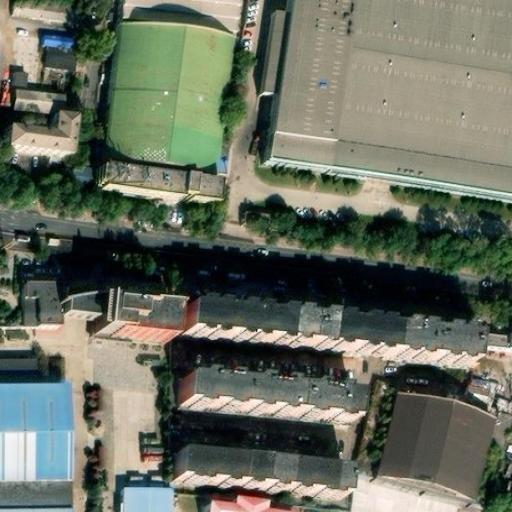building: (262, 0, 512, 199), (96, 22, 229, 193), (179, 308, 466, 376), (367, 395, 491, 508), (172, 371, 351, 429), (168, 444, 343, 500), (92, 178, 219, 224), (116, 0, 234, 37), (0, 114, 73, 160), (96, 318, 174, 355), (253, 7, 284, 90), (18, 286, 57, 337), (38, 31, 81, 73), (12, 84, 68, 113), (121, 484, 175, 512), (56, 291, 99, 319), (0, 360, 37, 392), (8, 0, 67, 19), (466, 334, 508, 349), (230, 501, 266, 512)
